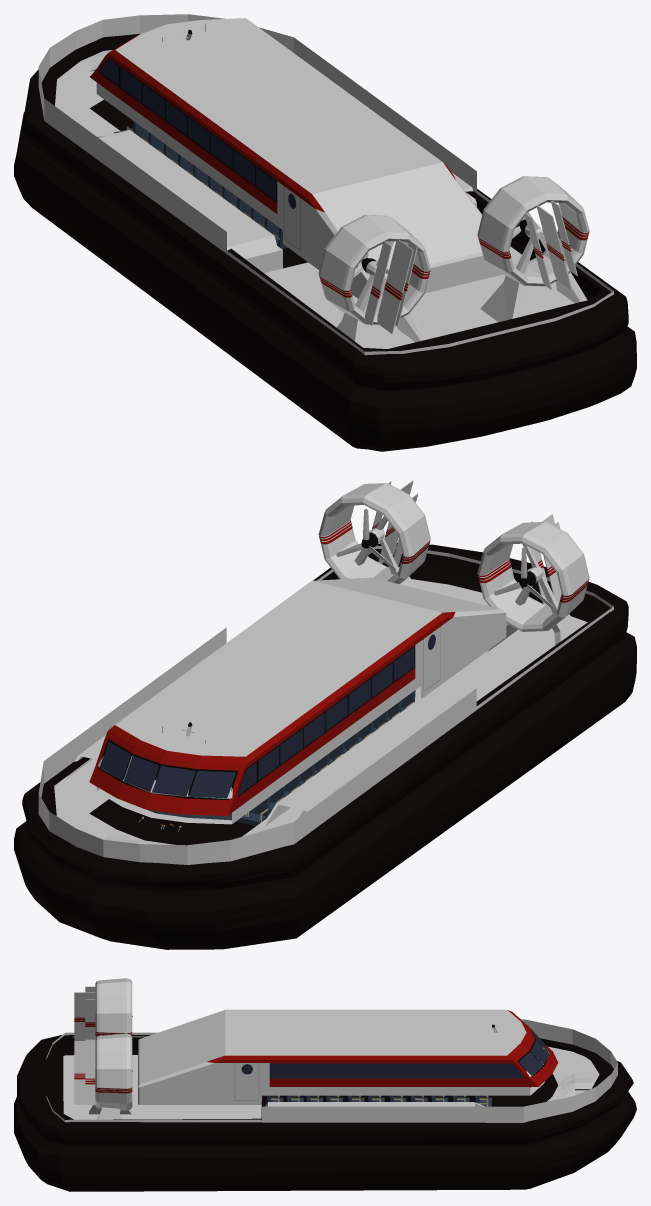
File: MVPP-10.obj
3 renders of one model, top to bottom at view 1: azimuth 30°, elevation 25°; view 2: azimuth 150°, elevation 25°; view 3: azimuth 270°, elevation 25°, orthographic. The views are drawn at different scales.
Visible parts, largest first — view 1: ShapeIndexedFaceSet.005_ShapeIndexedFaceSet.006, ShapeIndexedFaceSet.051_ShapeIndexedFaceSet.052, ShapeIndexedFaceSet.052_ShapeIndexedFaceSet.053, ShapeIndexedFaceSet.044_ShapeIndexedFaceSet.045, ShapeIndexedFaceSet.030_ShapeIndexedFaceSet.031, ShapeIndexedFaceSet.025_ShapeIndexedFaceSet.026, ShapeIndexedFaceSet.006_ShapeIndexedFaceSet.007, ShapeIndexedFaceSet.007_ShapeIndexedFaceSet.008, ShapeIndexedFaceSet.046_ShapeIndexedFaceSet.047, ShapeIndexedFaceSet.008_ShapeIndexedFaceSet.009, ShapeIndexedFaceSet.022_ShapeIndexedFaceSet.023, ShapeIndexedFaceSet.042_ShapeIndexedFaceSet.043 (+4 smaller); view 2: ShapeIndexedFaceSet.005_ShapeIndexedFaceSet.006, ShapeIndexedFaceSet.051_ShapeIndexedFaceSet.052, ShapeIndexedFaceSet.052_ShapeIndexedFaceSet.053, ShapeIndexedFaceSet.044_ShapeIndexedFaceSet.045, ShapeIndexedFaceSet.006_ShapeIndexedFaceSet.007, ShapeIndexedFaceSet.030_ShapeIndexedFaceSet.031, ShapeIndexedFaceSet.007_ShapeIndexedFaceSet.008, ShapeIndexedFaceSet.025_ShapeIndexedFaceSet.026, ShapeIndexedFaceSet.008_ShapeIndexedFaceSet.009, ShapeIndexedFaceSet.022_ShapeIndexedFaceSet.023, ShapeIndexedFaceSet.046_ShapeIndexedFaceSet.047, ShapeIndexedFaceSet.001_ShapeIndexedFaceSet.002 (+1 smaller); view 3: ShapeIndexedFaceSet.005_ShapeIndexedFaceSet.006, ShapeIndexedFaceSet.051_ShapeIndexedFaceSet.052, ShapeIndexedFaceSet.052_ShapeIndexedFaceSet.053, ShapeIndexedFaceSet.006_ShapeIndexedFaceSet.007, ShapeIndexedFaceSet.030_ShapeIndexedFaceSet.031, ShapeIndexedFaceSet.044_ShapeIndexedFaceSet.045, ShapeIndexedFaceSet.007_ShapeIndexedFaceSet.008, ShapeIndexedFaceSet.008_ShapeIndexedFaceSet.009, ShapeIndexedFaceSet.025_ShapeIndexedFaceSet.026, ShapeIndexedFaceSet.022_ShapeIndexedFaceSet.023, ShapeIndexedFaceSet.036_ShapeIndexedFaceSet.037, ShapeIndexedFaceSet.042_ShapeIndexedFaceSet.043 (+4 smaller).
Part boxes in pixels (x1=…): ShapeIndexedFaceSet.005_ShapeIndexedFaceSet.006: x1=38, y1=14, x2=613, y2=355; ShapeIndexedFaceSet.051_ShapeIndexedFaceSet.052: x1=14, y1=112, x2=636, y2=451; ShapeIndexedFaceSet.052_ShapeIndexedFaceSet.053: x1=22, y1=34, x2=628, y2=391; ShapeIndexedFaceSet.044_ShapeIndexedFaceSet.045: x1=318, y1=176, x2=589, y2=324; ShapeIndexedFaceSet.030_ShapeIndexedFaceSet.031: x1=55, y1=50, x2=574, y2=348; ShapeIndexedFaceSet.025_ShapeIndexedFaceSet.026: x1=97, y1=130, x2=476, y2=258; ShapeIndexedFaceSet.006_ShapeIndexedFaceSet.007: x1=90, y1=35, x2=455, y2=213; ShapeIndexedFaceSet.007_ShapeIndexedFaceSet.008: x1=101, y1=58, x2=277, y2=202; ShapeIndexedFaceSet.046_ShapeIndexedFaceSet.047: x1=336, y1=212, x2=587, y2=345; ShapeIndexedFaceSet.008_ShapeIndexedFaceSet.009: x1=96, y1=82, x2=282, y2=229; ShapeIndexedFaceSet.022_ShapeIndexedFaceSet.023: x1=132, y1=121, x2=287, y2=249; ShapeIndexedFaceSet.042_ShapeIndexedFaceSet.043: x1=377, y1=239, x2=413, y2=333; ShapeIndexedFaceSet.005_ShapeIndexedFaceSet.006: x1=38, y1=545, x2=613, y2=864; ShapeIndexedFaceSet.051_ShapeIndexedFaceSet.052: x1=14, y1=579, x2=636, y2=949; ShapeIndexedFaceSet.052_ShapeIndexedFaceSet.053: x1=22, y1=543, x2=628, y2=892; ShapeIndexedFaceSet.044_ShapeIndexedFaceSet.045: x1=318, y1=483, x2=589, y2=631; ShapeIndexedFaceSet.006_ShapeIndexedFaceSet.007: x1=89, y1=612, x2=455, y2=815; ShapeIndexedFaceSet.030_ShapeIndexedFaceSet.031: x1=54, y1=579, x2=587, y2=844; ShapeIndexedFaceSet.007_ShapeIndexedFaceSet.008: x1=100, y1=646, x2=415, y2=797; ShapeIndexedFaceSet.025_ShapeIndexedFaceSet.026: x1=65, y1=698, x2=451, y2=826; ShapeIndexedFaceSet.008_ShapeIndexedFaceSet.009: x1=96, y1=675, x2=420, y2=824; ShapeIndexedFaceSet.022_ShapeIndexedFaceSet.023: x1=236, y1=690, x2=415, y2=826; ShapeIndexedFaceSet.046_ShapeIndexedFaceSet.047: x1=354, y1=516, x2=579, y2=651; ShapeIndexedFaceSet.001_ShapeIndexedFaceSet.002: x1=98, y1=645, x2=414, y2=799; ShapeIndexedFaceSet.005_ShapeIndexedFaceSet.006: x1=46, y1=1009, x2=617, y2=1122; ShapeIndexedFaceSet.051_ShapeIndexedFaceSet.052: x1=14, y1=1091, x2=636, y2=1191; ShapeIndexedFaceSet.052_ShapeIndexedFaceSet.053: x1=17, y1=1035, x2=633, y2=1146; ShapeIndexedFaceSet.006_ShapeIndexedFaceSet.007: x1=207, y1=1010, x2=558, y2=1086; ShapeIndexedFaceSet.030_ShapeIndexedFaceSet.031: x1=63, y1=1046, x2=599, y2=1119; ShapeIndexedFaceSet.044_ShapeIndexedFaceSet.045: x1=95, y1=978, x2=132, y2=1110; ShapeIndexedFaceSet.007_ShapeIndexedFaceSet.008: x1=269, y1=1029, x2=548, y2=1078; ShapeIndexedFaceSet.008_ShapeIndexedFaceSet.009: x1=262, y1=1044, x2=549, y2=1095; ShapeIndexedFaceSet.025_ShapeIndexedFaceSet.026: x1=265, y1=1102, x2=484, y2=1106; ShapeIndexedFaceSet.022_ShapeIndexedFaceSet.023: x1=266, y1=1095, x2=491, y2=1106; ShapeIndexedFaceSet.036_ShapeIndexedFaceSet.037: x1=74, y1=1041, x2=95, y2=1104; ShapeIndexedFaceSet.042_ShapeIndexedFaceSet.043: x1=74, y1=992, x2=95, y2=1040.
Size of the model in its own units: 135 by 86.85 by 353.
